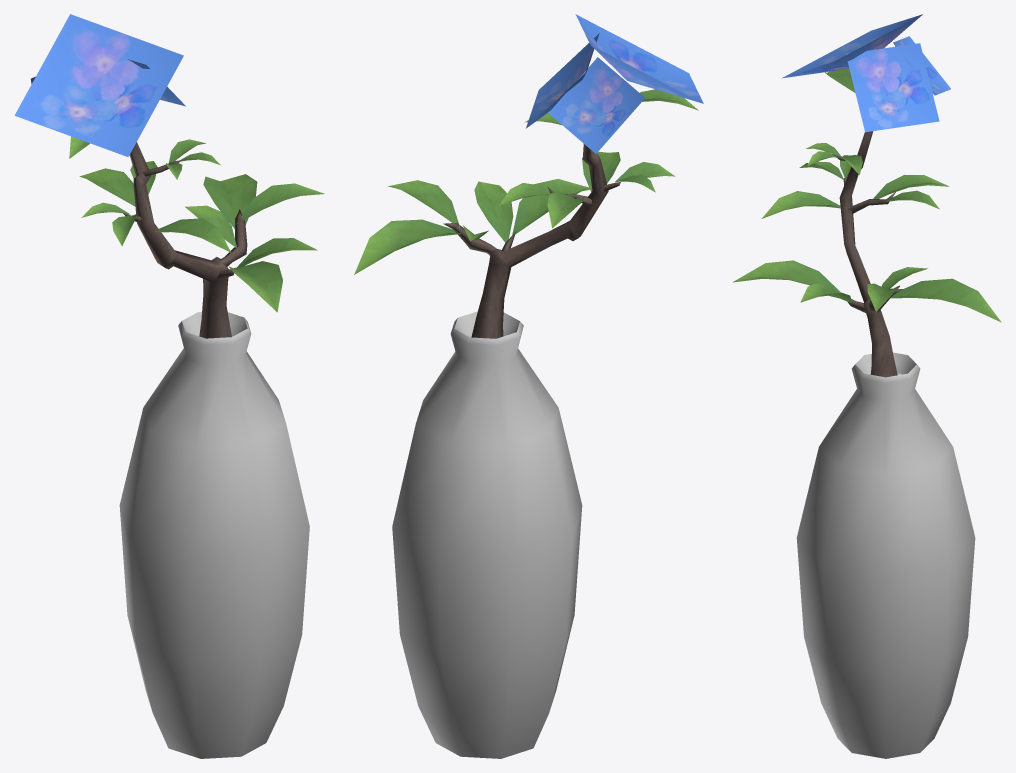
The model's file is Homeworld_Interior_Dq_Thing_Pot_01_Vo.fbx.
3 renders of one model, left to right at view 1: azimuth 30°, elevation 25°; view 2: azimuth 150°, elevation 25°; view 3: azimuth 270°, elevation 25°, orthographic. The views are drawn at different scales.
Parts seen in each view (by area): view 1: Indoor_Dq_Prop_Comp_Pot_03_Vo; view 2: Indoor_Dq_Prop_Comp_Pot_03_Vo; view 3: Indoor_Dq_Prop_Comp_Pot_03_Vo.
Part boxes in pixels (x1,y1,x2,y2): Indoor_Dq_Prop_Comp_Pot_03_Vo: (14,14,324,758); Indoor_Dq_Prop_Comp_Pot_03_Vo: (354,14,703,758); Indoor_Dq_Prop_Comp_Pot_03_Vo: (732,14,1001,758).
Size of the model in its own units: 0.3627 by 0.8154 by 0.2978.
